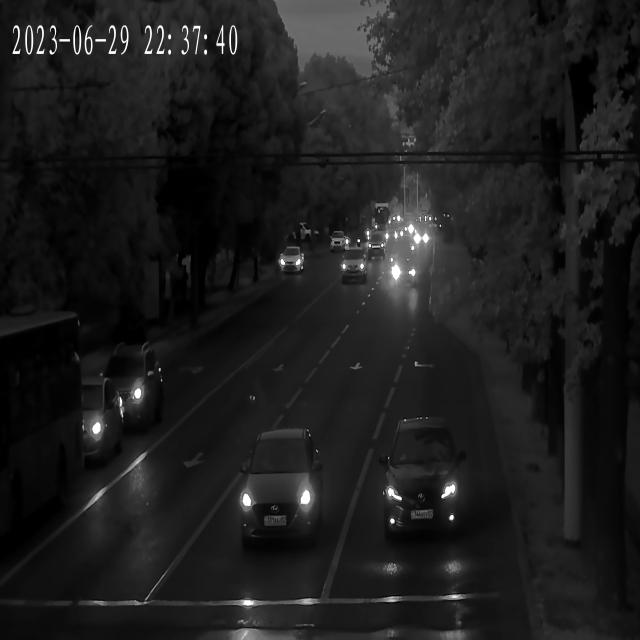Bus: (0, 313, 88, 527)
Car: (383, 412, 462, 543), (244, 428, 325, 548), (71, 375, 126, 467), (105, 342, 167, 418), (392, 250, 418, 288), (278, 243, 306, 276), (342, 250, 366, 283), (368, 227, 386, 257), (329, 230, 348, 256), (412, 225, 430, 251), (390, 225, 406, 245)
